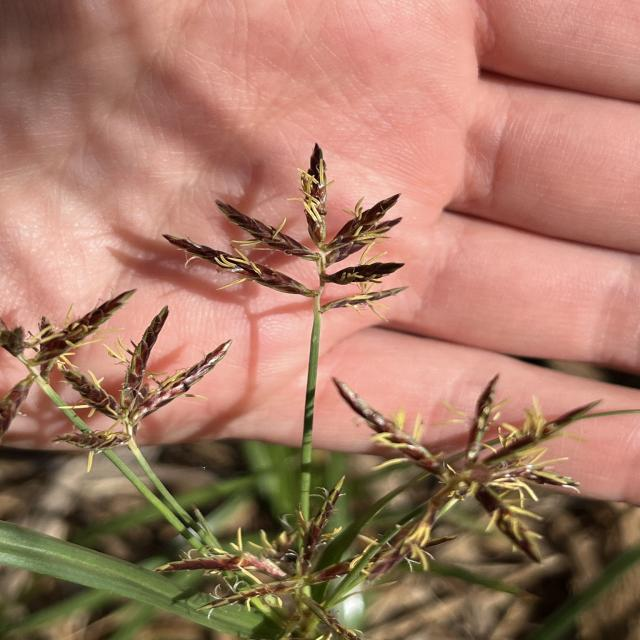cyperus: (0, 131, 606, 618), (316, 360, 606, 582), (153, 129, 445, 334), (1, 277, 245, 477), (162, 473, 451, 625)
